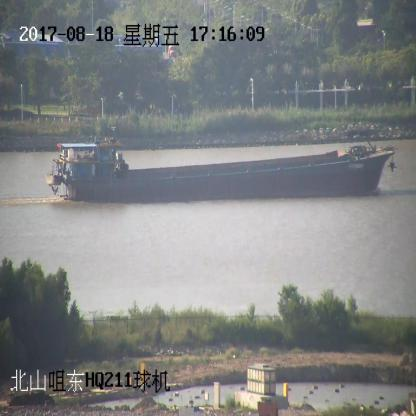Bulk Carrier: (46, 134, 397, 203)
